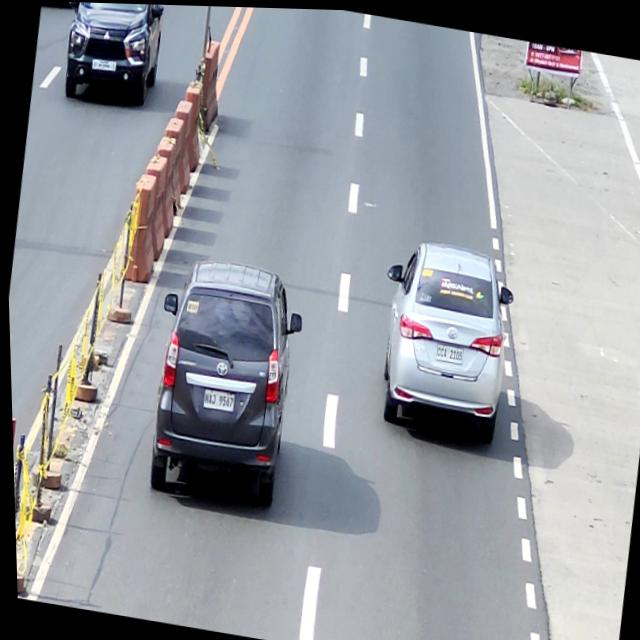Car: (135, 249, 313, 511), (362, 231, 523, 445), (55, 1, 170, 110)
License-Plate: (200, 387, 233, 412), (432, 341, 463, 363), (91, 57, 117, 72)
